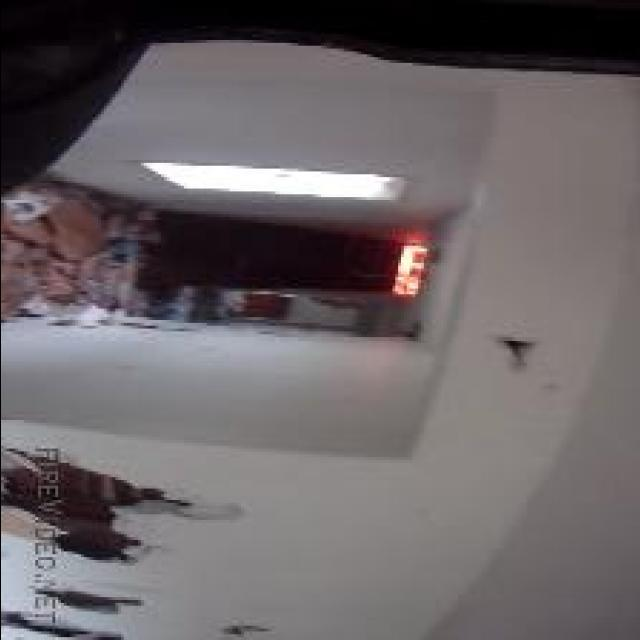Fire: (390, 242, 430, 294)
